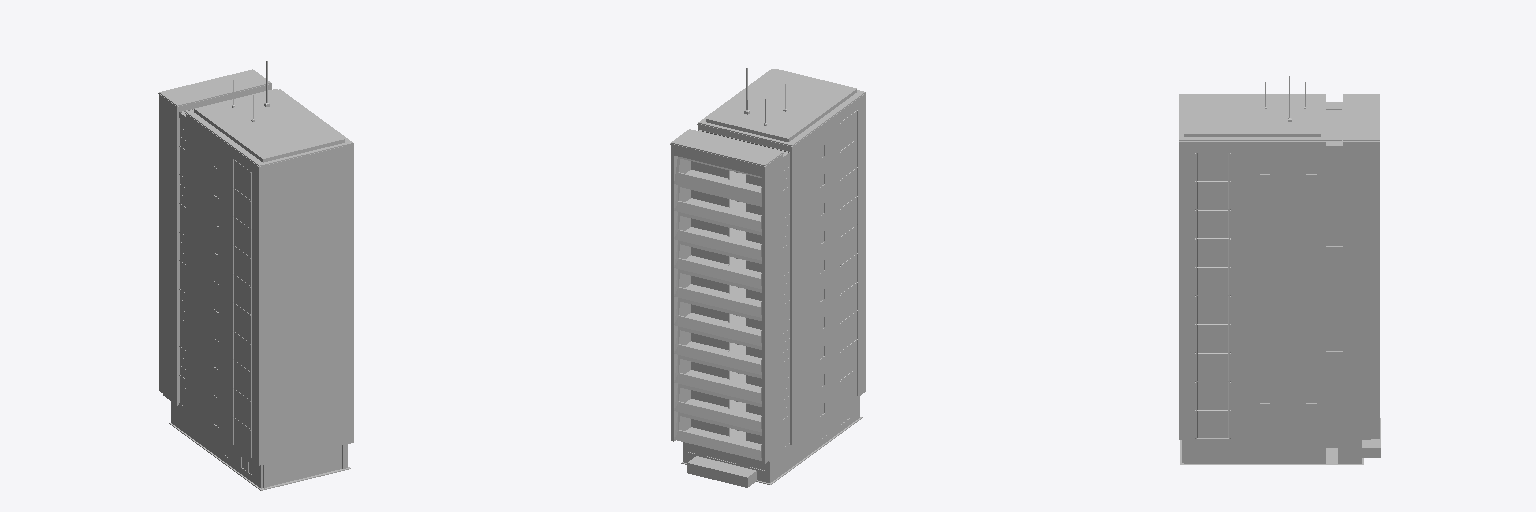
File: ResidentialBuildings006.obj
3 renders of one model, left to right at view 1: azimuth 30°, elevation 25°; view 2: azimuth 150°, elevation 25°; view 3: azimuth 270°, elevation 25°, orthographic.
Parts seen in each view (by area): view 1: Residential_Buildings_006_Cube.014; view 2: Residential_Buildings_006_Cube.014; view 3: Residential_Buildings_006_Cube.014.
Part boxes in pixels (bbox=[...]): Residential_Buildings_006_Cube.014: bbox=[158, 61, 353, 490]; Residential_Buildings_006_Cube.014: bbox=[670, 68, 865, 487]; Residential_Buildings_006_Cube.014: bbox=[1179, 76, 1380, 464].
Bounding box in the file's own units: 12.59 × 47.19 × 23.1.